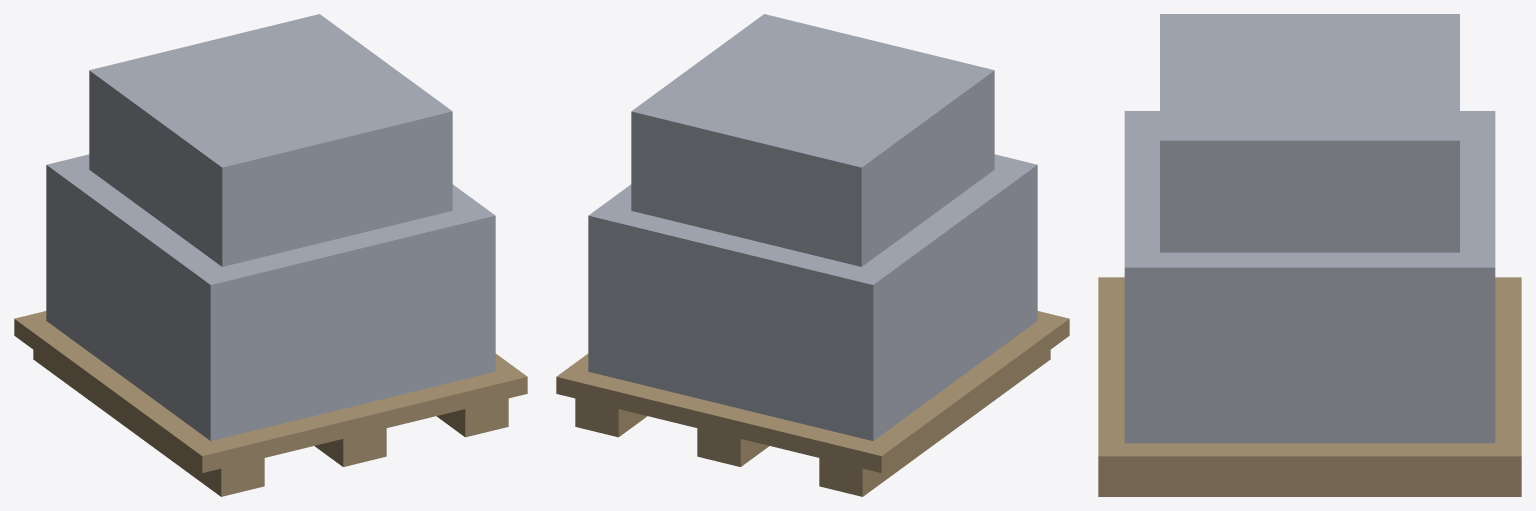
File: palet.glb
3 renders of one model, left to right at view 1: azimuth 30°, elevation 25°; view 2: azimuth 150°, elevation 25°; view 3: azimuth 270°, elevation 25°, orthographic. The views are drawn at different scales.
Parts seen in each view (by area): view 1: Palet; view 2: Palet; view 3: Palet.
Boxes of the visible parts, x1,y1,x2,y2 form: Palet: (14,14,527,496); Palet: (556,14,1069,496); Palet: (1098,14,1521,496).
Size of the model in its own units: 1.2 by 1.06 by 1.2.
